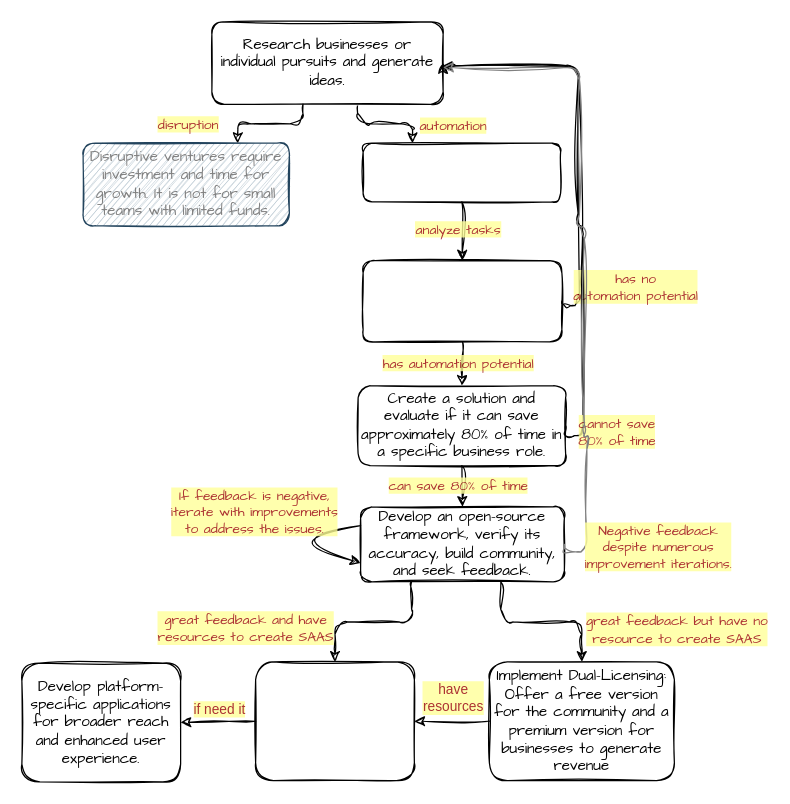
The diagram is 790 pixels wide and 804 high, and some of its shapes have lost their labels. Here are the shapes that lost their labels. From the top down, the centre of each, then its label:
At [461,172]: "In chosen business, break all activities into specific tasks.".
At [462,300]: "Assess tasks for the automation potential (using supervised or generative AI).".
At [334,721]: "Develop a SAAS and reach a larger customer base by hiring Sales and Marketing".
